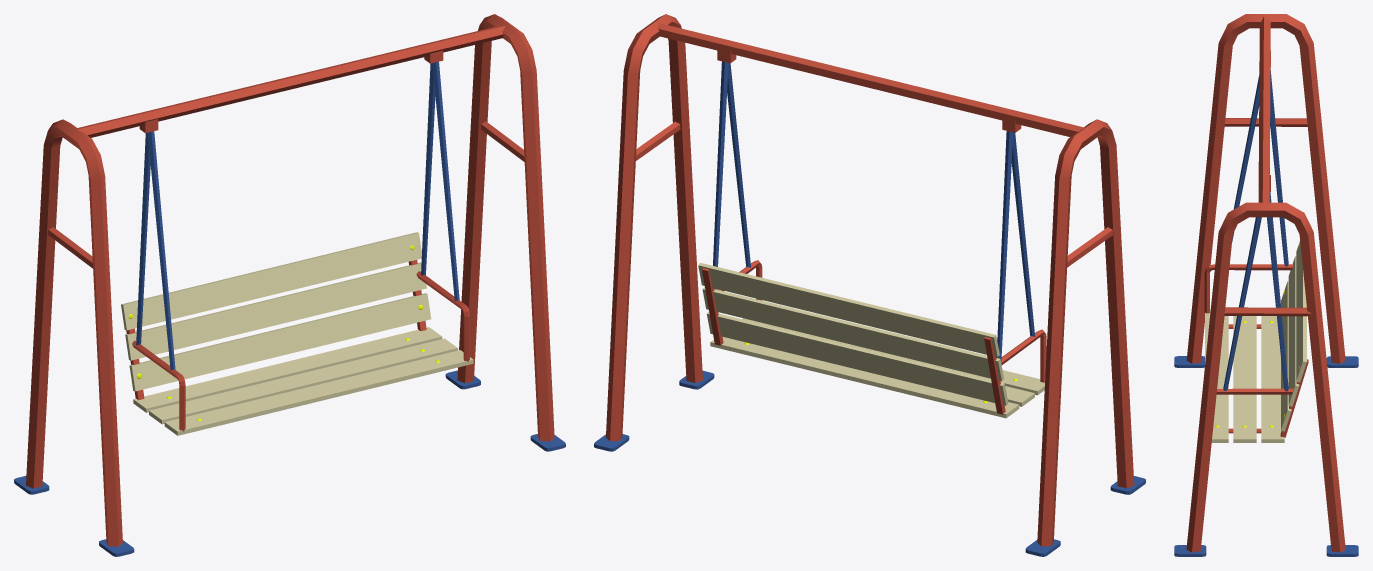
File: SM_Swings_04.fbx
3 views of the same model, side by side, from view 1: azimuth 30°, elevation 25°; view 2: azimuth 150°, elevation 25°; view 3: azimuth 270°, elevation 25° (orthographic). The views are drawn at different scales.
Visible parts, largest first — view 1: SM_Swings_04; view 2: SM_Swings_04; view 3: SM_Swings_04.
Boxes of the visible parts, x1,y1,x2,y2 form: SM_Swings_04: (14,14,565,556); SM_Swings_04: (594,14,1145,556); SM_Swings_04: (1174,14,1358,556).
Size of the model in its own units: 307 by 253 by 121.
